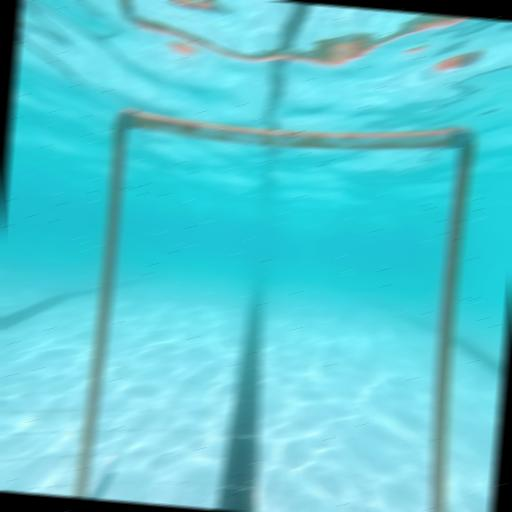gate: (72, 96, 478, 512)
